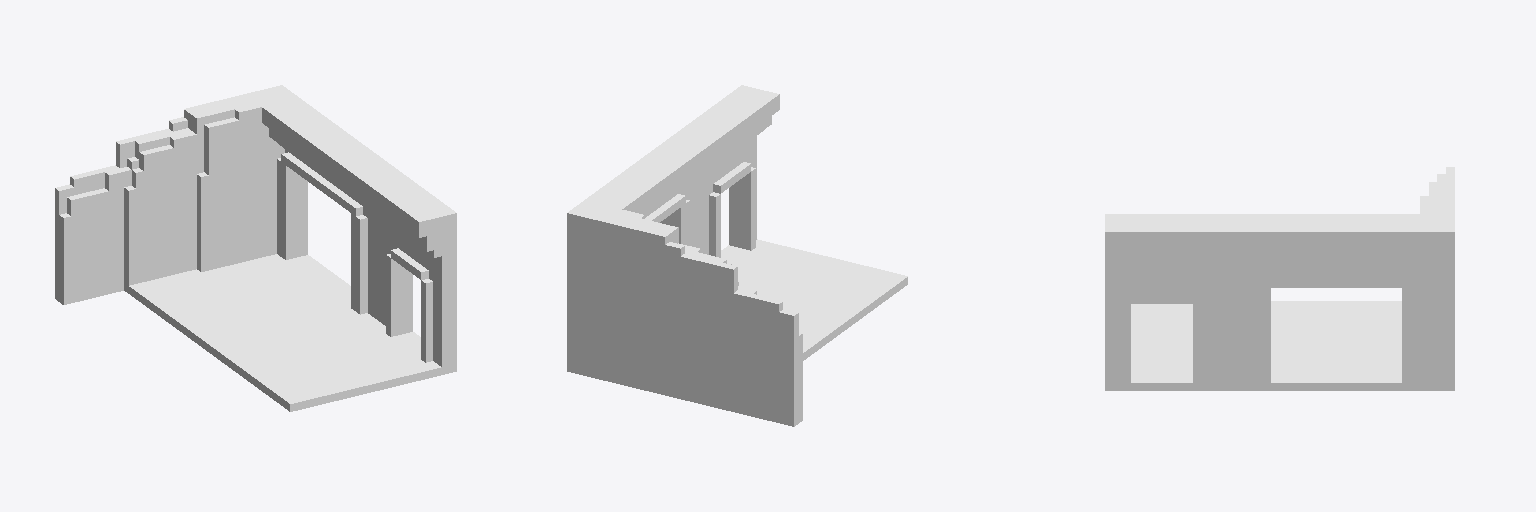
The model's file is Volt-5.obj.
3 views of the same model, side by side, from view 1: azimuth 30°, elevation 25°; view 2: azimuth 150°, elevation 25°; view 3: azimuth 270°, elevation 25° (orthographic).
Parts seen in each view (by area): view 1: object 1; view 2: object 1; view 3: object 1.
Boxes of the visible parts, x1,y1,x2,y2 form: object 1: [55, 85, 456, 411]; object 1: [567, 85, 907, 426]; object 1: [1105, 167, 1454, 390].
Bounding box in the file's own units: 3 × 2 × 4.